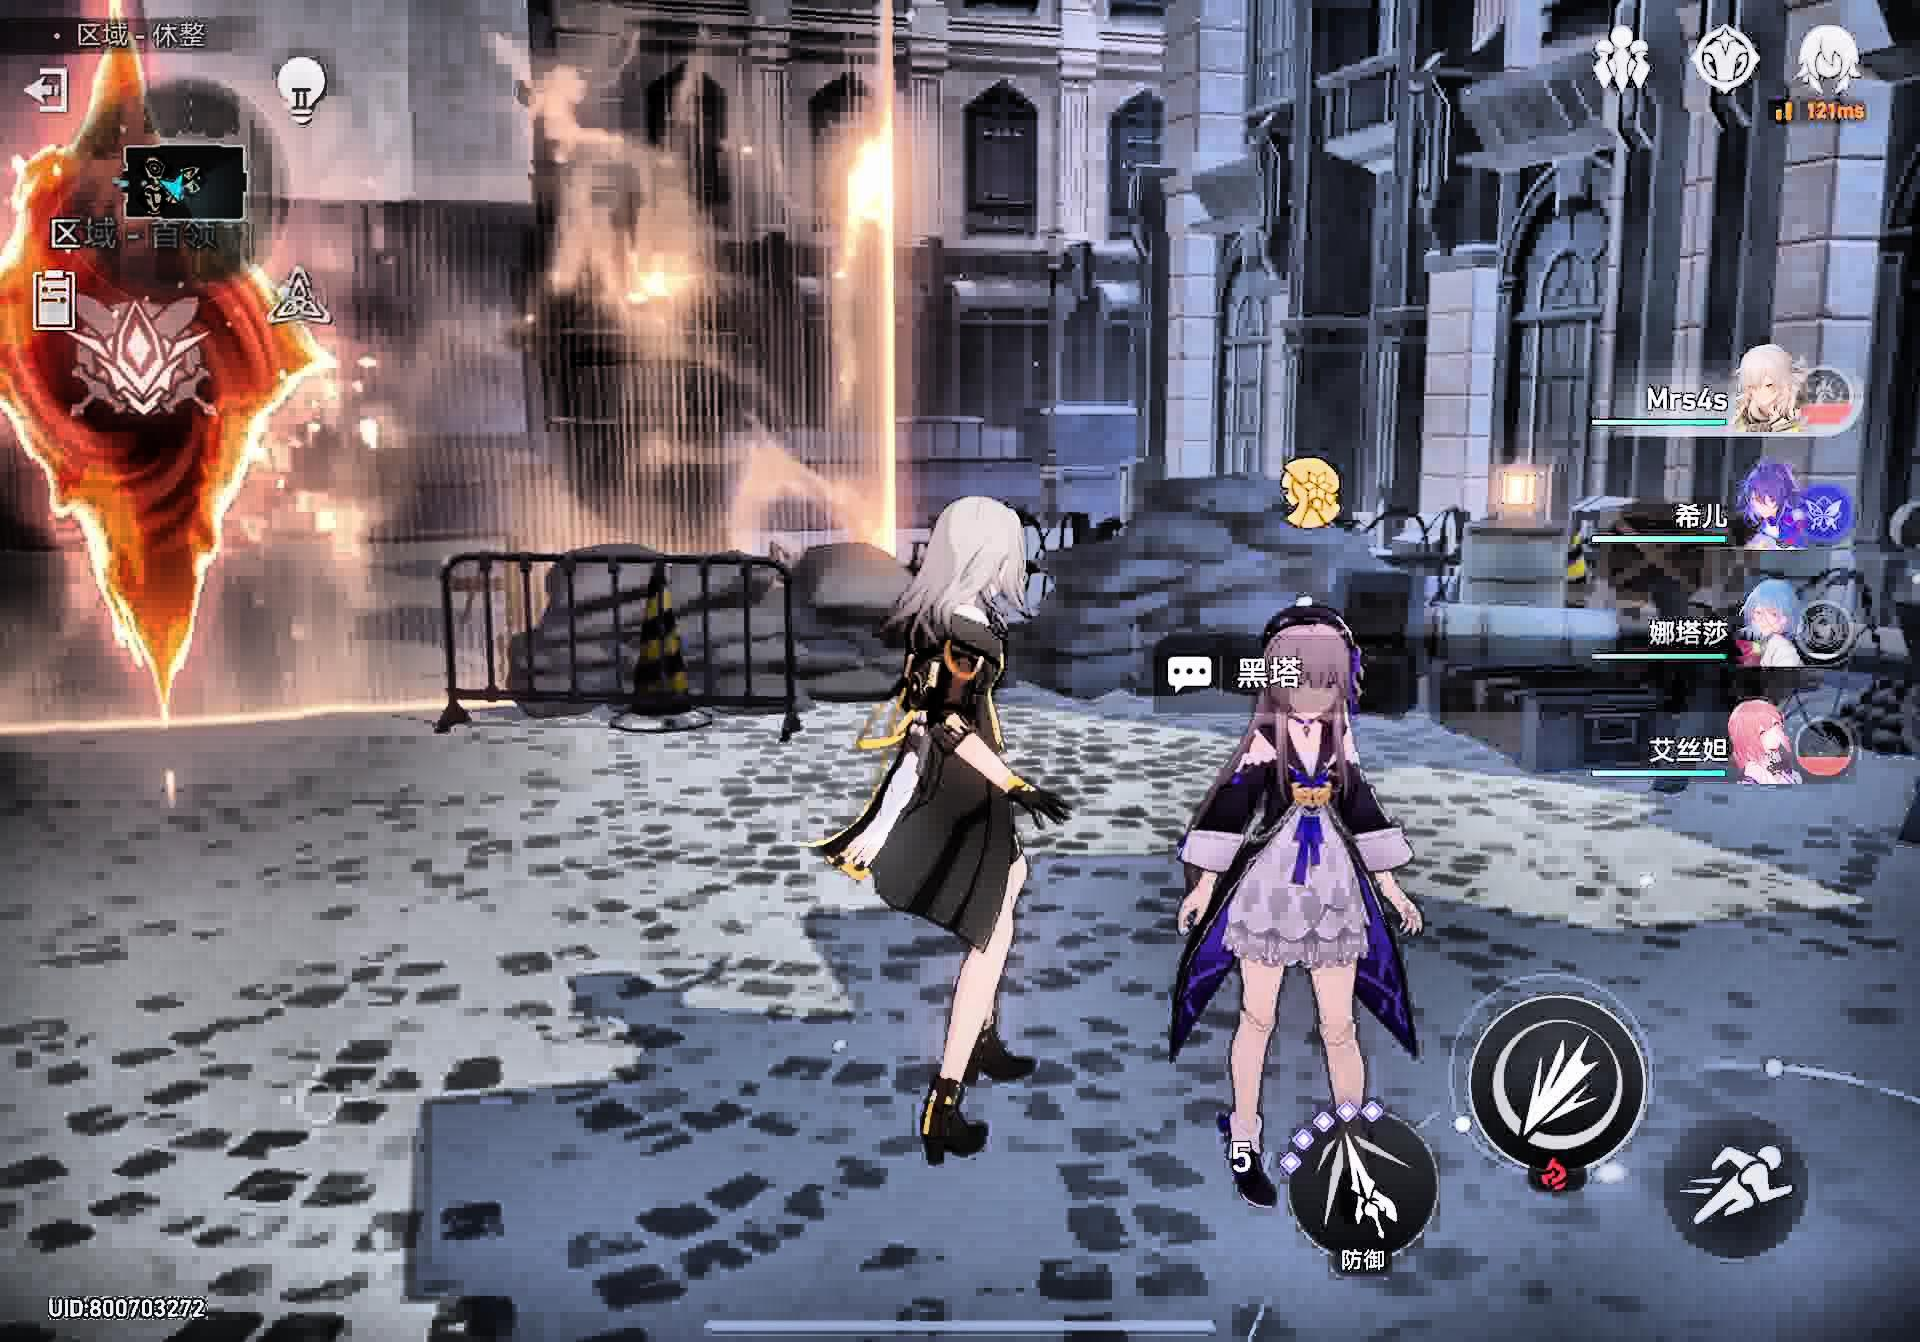BattleDoor: (0, 4, 395, 744)
Self: (821, 490, 1053, 1167)
TeamMate: (1180, 594, 1424, 1206)
